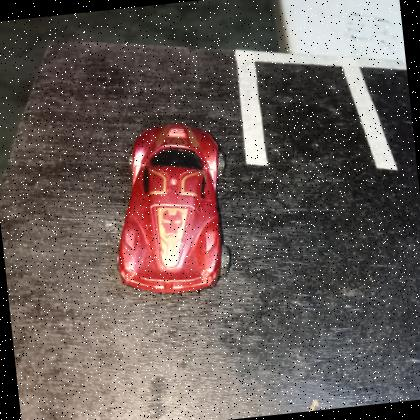Car: (117, 124, 224, 295)
